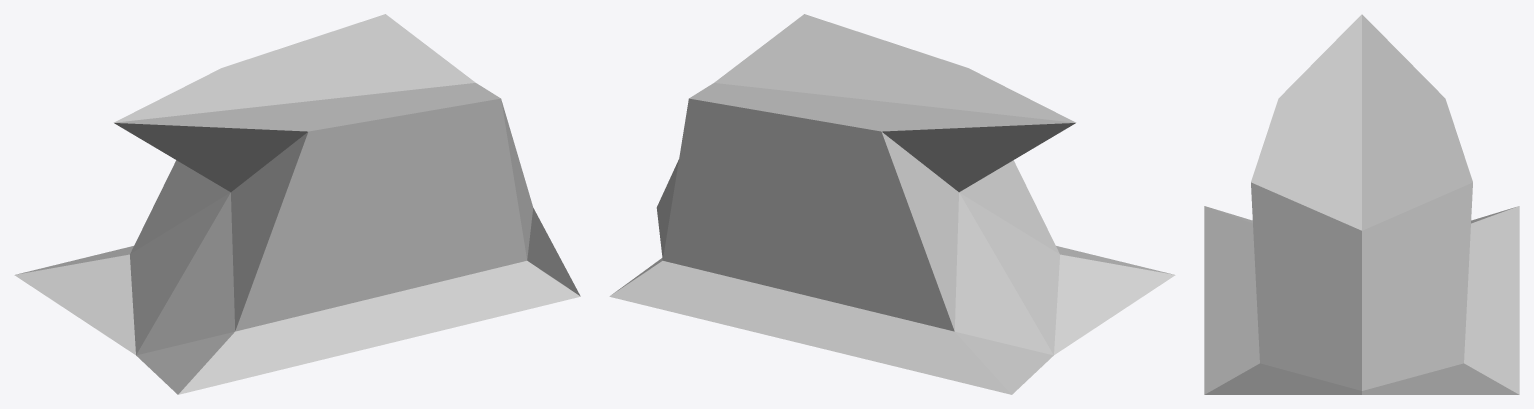
File: X_Barracks.glb
The picture shows the model from 3 angles, left to right: view 1: azimuth 30°, elevation 25°; view 2: azimuth 150°, elevation 25°; view 3: azimuth 270°, elevation 25°; orthographic projection. The views are drawn at different scales.
Visible parts, largest first — view 1: Cube; view 2: Cube; view 3: Cube.
Part boxes in pixels (x1,y1,x2,y2): Cube: (14,14,580,394); Cube: (609,14,1175,394); Cube: (1204,14,1519,394).
Bounding box in the file's own units: 6.84 × 3.56 × 4.44.
1 material, 1 textured.
